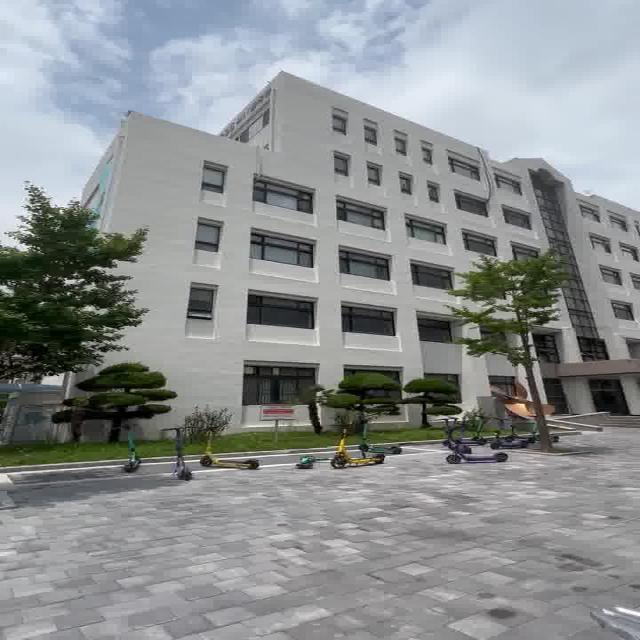building: (91, 81, 501, 378)
